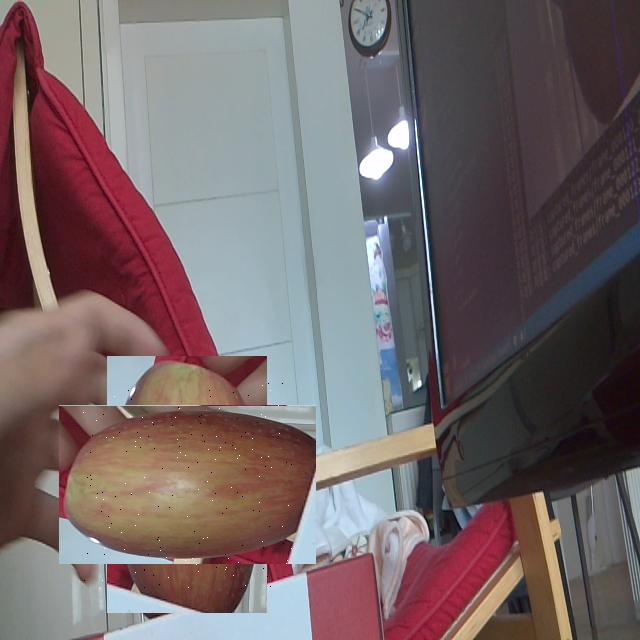apple: (83, 380, 292, 589)
